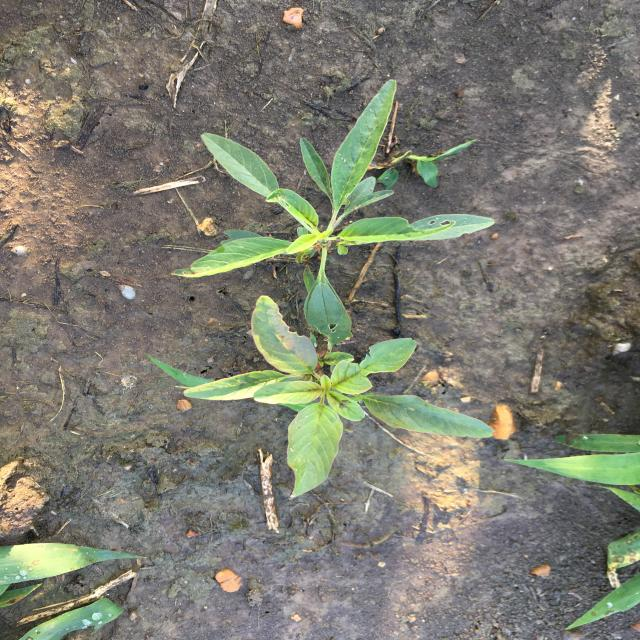Waterhemp: (167, 78, 498, 349), (179, 294, 498, 500)
